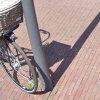bicycles: (0, 0, 37, 93)
